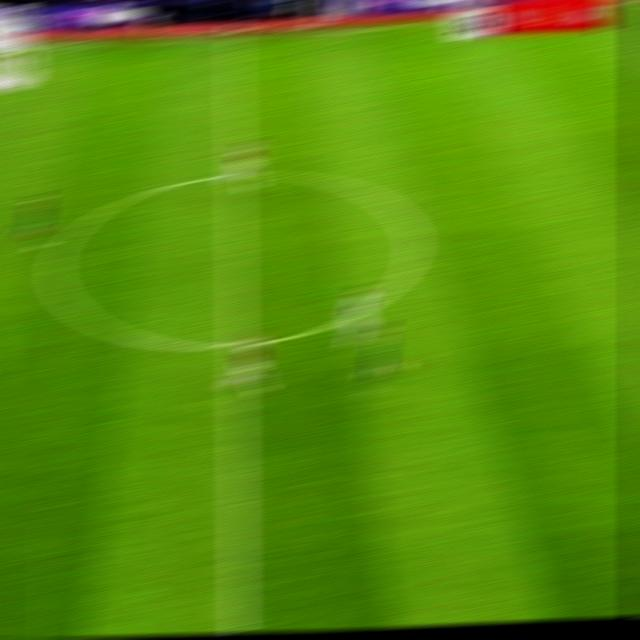halfcircle_bottom: (218, 325, 256, 361)
midline_top_intersection: (216, 24, 250, 52)
